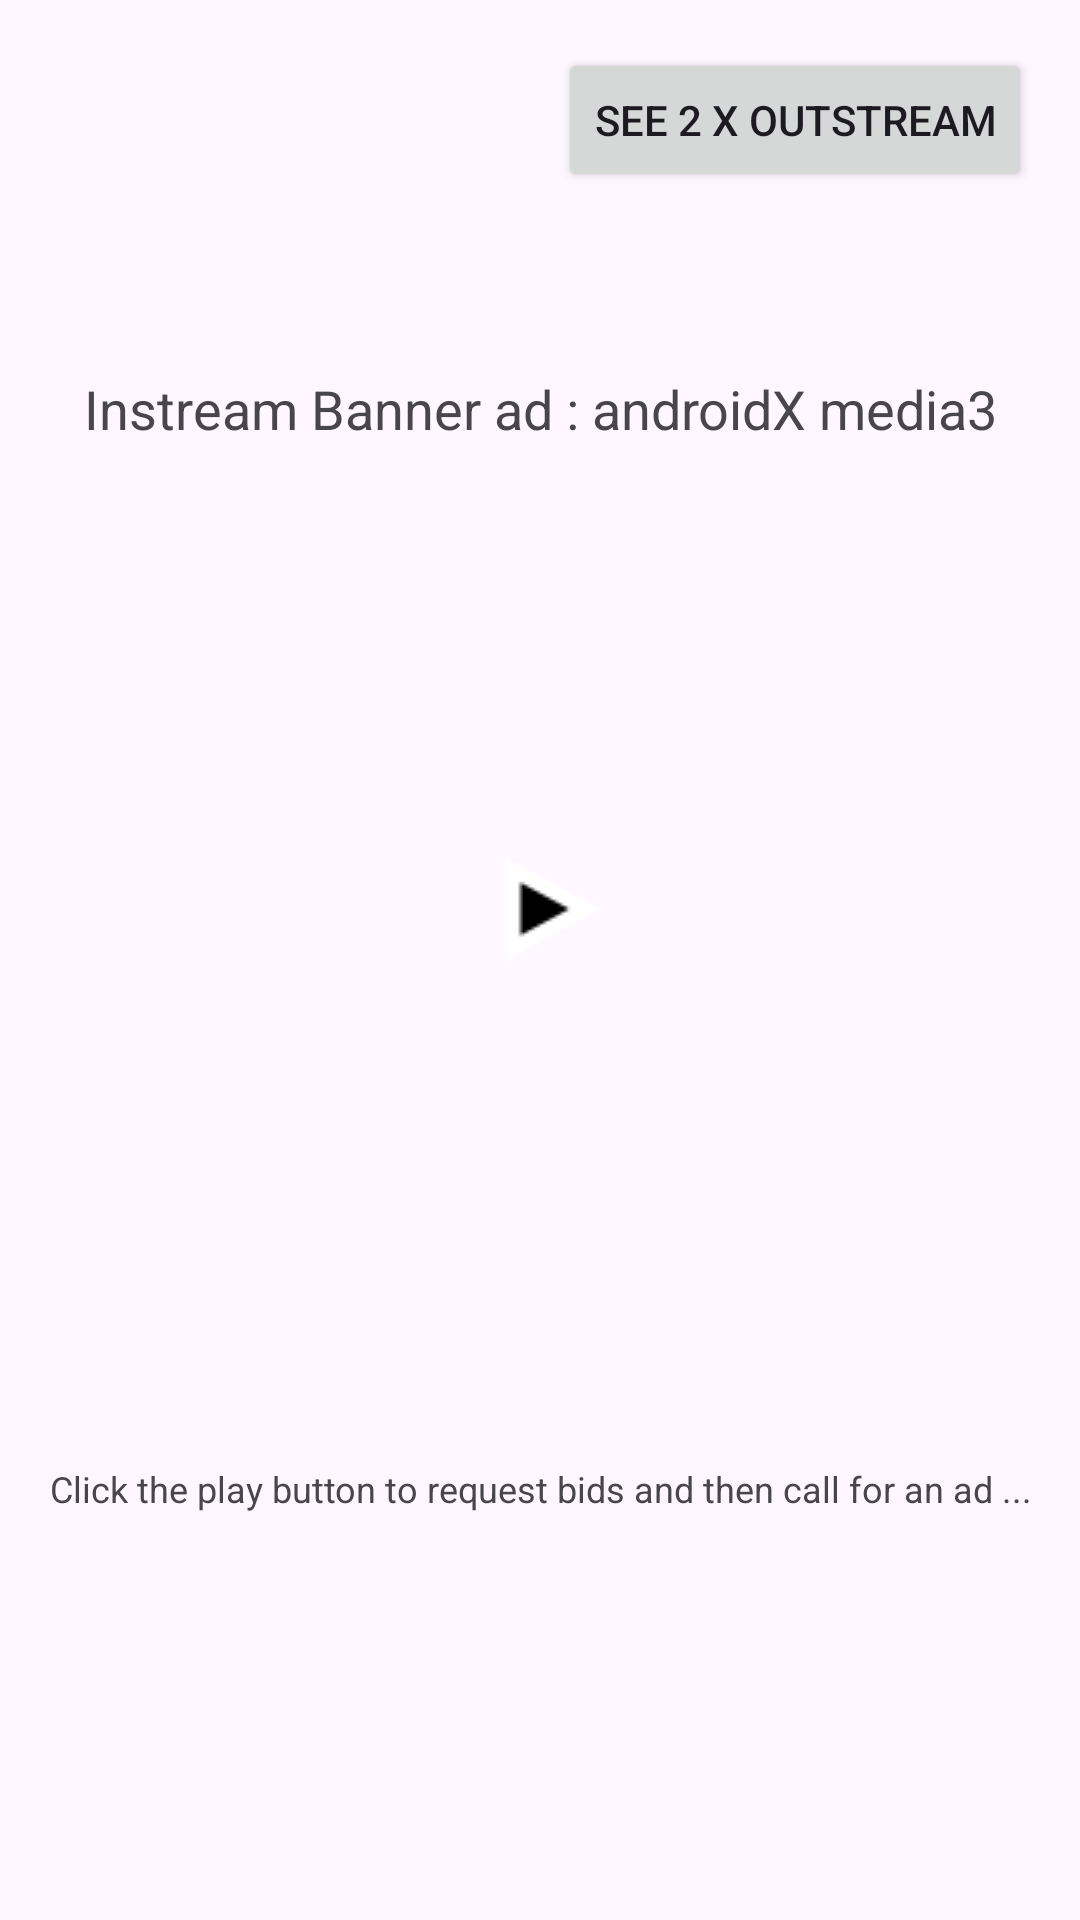

Named icons in this screenshot (1080x1920) and their bounding boxes, (x1, y1, x2, y2):
Play: (518, 881, 569, 937)
